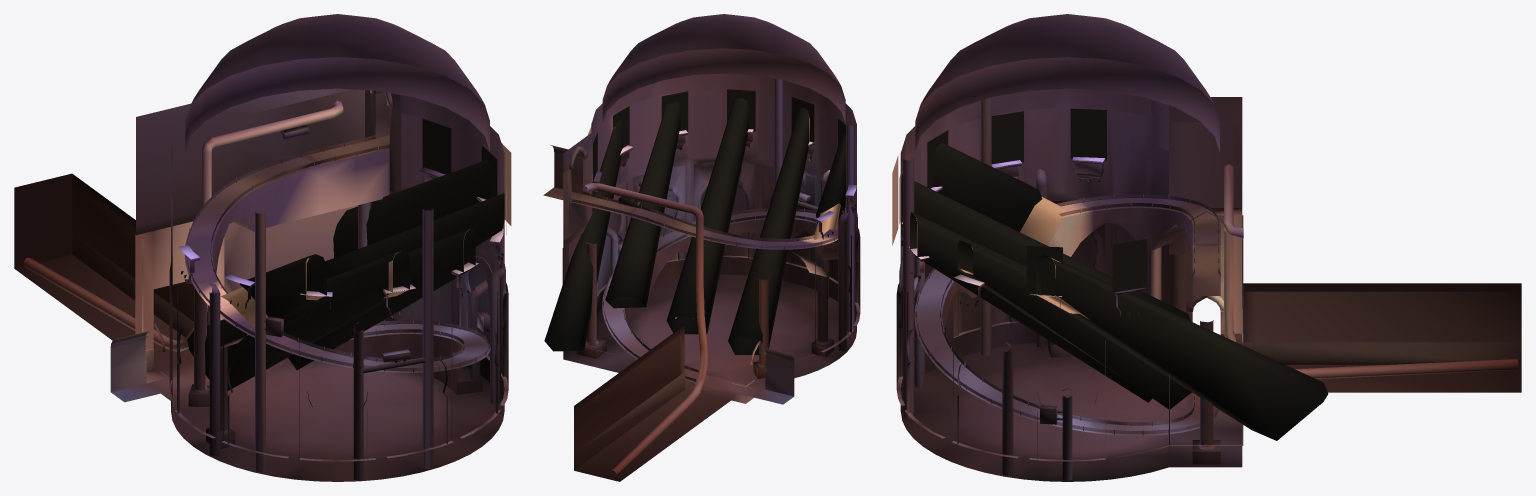
The model's file is 03Spiral.gltf.
3 renders of one model, left to right at view 1: azimuth 30°, elevation 25°; view 2: azimuth 150°, elevation 25°; view 3: azimuth 270°, elevation 25°, orthographic. The views are drawn at different scales.
Visible parts, largest first — view 1: stg033_g07_Mesh_0000, stg033_o07_Mesh_0016, stg033_o07_Mesh_0031, stg033_o07_Mesh_0034, stg033_o07_Mesh_0007, stg033_o07_Mesh_0021, stg033_o07_Mesh_0022, stg033_o07_Mesh_0036, stg033_o07_Mesh_0020, stg033_o07_Mesh_0014, stg033_o07_Mesh_0023, stg033_o07_Mesh_0004 (+20 smaller); view 2: stg033_g07_Mesh_0000, stg033_o07_Mesh_0016, stg033_o07_Mesh_0034, stg033_o07_Mesh_0031, stg033_o07_Mesh_0007, stg033_o07_Mesh_0021, stg033_o07_Mesh_0004, stg033_o07_Mesh_0011, stg033_o07_Mesh_0012, stg033_o07_Mesh_0025, stg033_o07_Mesh_0022, stg033_o07_Mesh_0036 (+19 smaller); view 3: stg033_g07_Mesh_0000, stg033_o07_Mesh_0012, stg033_o07_Mesh_0016, stg033_o07_Mesh_0031, stg033_o07_Mesh_0034, stg033_o07_Mesh_0007, stg033_o07_Mesh_0022, stg033_o07_Mesh_0021, stg033_o07_Mesh_0004, stg033_o07_Mesh_0011, stg033_o07_Mesh_0036, stg033_g07_Mesh_0001 (+14 smaller).
Boxes of the visible parts, x1=… form: stg033_g07_Mesh_0000: x1=187, y1=160, x2=504, y2=390; stg033_o07_Mesh_0016: x1=135, y1=89, x2=508, y2=387; stg033_o07_Mesh_0031: x1=23, y1=100, x2=504, y2=480; stg033_o07_Mesh_0034: x1=14, y1=137, x2=437, y2=453; stg033_o07_Mesh_0007: x1=145, y1=57, x2=489, y2=352; stg033_o07_Mesh_0021: x1=191, y1=14, x2=484, y2=103; stg033_o07_Mesh_0022: x1=171, y1=366, x2=504, y2=481; stg033_o07_Mesh_0036: x1=184, y1=155, x2=490, y2=372; stg033_o07_Mesh_0020: x1=136, y1=148, x2=504, y2=365; stg033_o07_Mesh_0014: x1=169, y1=89, x2=508, y2=380; stg033_o07_Mesh_0023: x1=266, y1=381, x2=408, y2=441; stg033_o07_Mesh_0004: x1=171, y1=90, x2=504, y2=459; stg033_g07_Mesh_0000: x1=544, y1=97, x2=846, y2=354; stg033_o07_Mesh_0016: x1=569, y1=88, x2=860, y2=311; stg033_o07_Mesh_0034: x1=545, y1=188, x2=803, y2=481; stg033_o07_Mesh_0031: x1=584, y1=78, x2=854, y2=477; stg033_o07_Mesh_0007: x1=569, y1=48, x2=845, y2=364; stg033_o07_Mesh_0021: x1=607, y1=14, x2=840, y2=85; stg033_o07_Mesh_0004: x1=563, y1=90, x2=856, y2=370; stg033_o07_Mesh_0011: x1=554, y1=170, x2=856, y2=470; stg033_o07_Mesh_0012: x1=574, y1=335, x2=679, y2=452; stg033_o07_Mesh_0025: x1=563, y1=73, x2=856, y2=172; stg033_o07_Mesh_0022: x1=596, y1=274, x2=856, y2=379; stg033_o07_Mesh_0036: x1=602, y1=208, x2=838, y2=382; stg033_g07_Mesh_0000: x1=910, y1=143, x2=1328, y2=440; stg033_o07_Mesh_0012: x1=1255, y1=291, x2=1521, y2=342; stg033_o07_Mesh_0016: x1=896, y1=108, x2=1242, y2=387; stg033_o07_Mesh_0031: x1=903, y1=97, x2=1518, y2=480; stg033_o07_Mesh_0034: x1=967, y1=256, x2=1521, y2=467; stg033_o07_Mesh_0007: x1=915, y1=57, x2=1227, y2=311; stg033_o07_Mesh_0022: x1=900, y1=341, x2=1168, y2=481; stg033_o07_Mesh_0021: x1=921, y1=14, x2=1214, y2=104; stg033_o07_Mesh_0004: x1=900, y1=107, x2=1242, y2=459; stg033_o07_Mesh_0011: x1=900, y1=322, x2=1521, y2=448; stg033_o07_Mesh_0036: x1=914, y1=198, x2=1220, y2=435; stg033_g07_Mesh_0001: x1=901, y1=108, x2=1146, y2=296.
Bounding box in the file's own units: 50.89 × 59.95 × 90.49.
